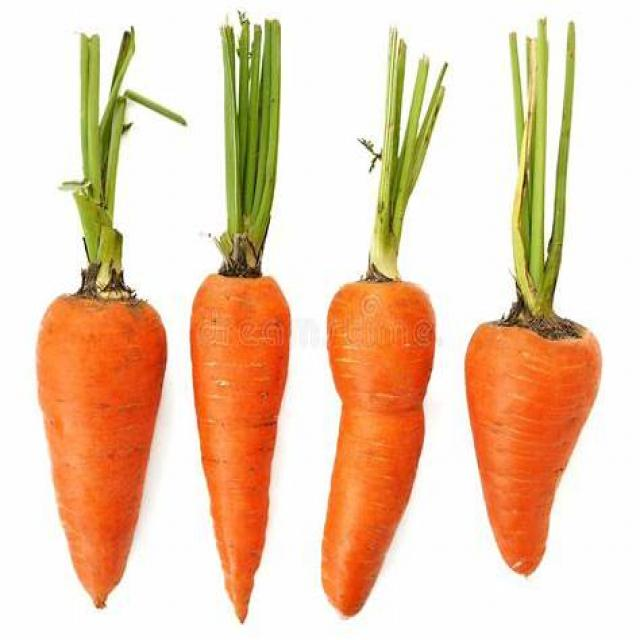Carrot: (36, 293, 169, 624), (313, 282, 439, 614), (187, 274, 294, 626), (462, 318, 602, 581)
